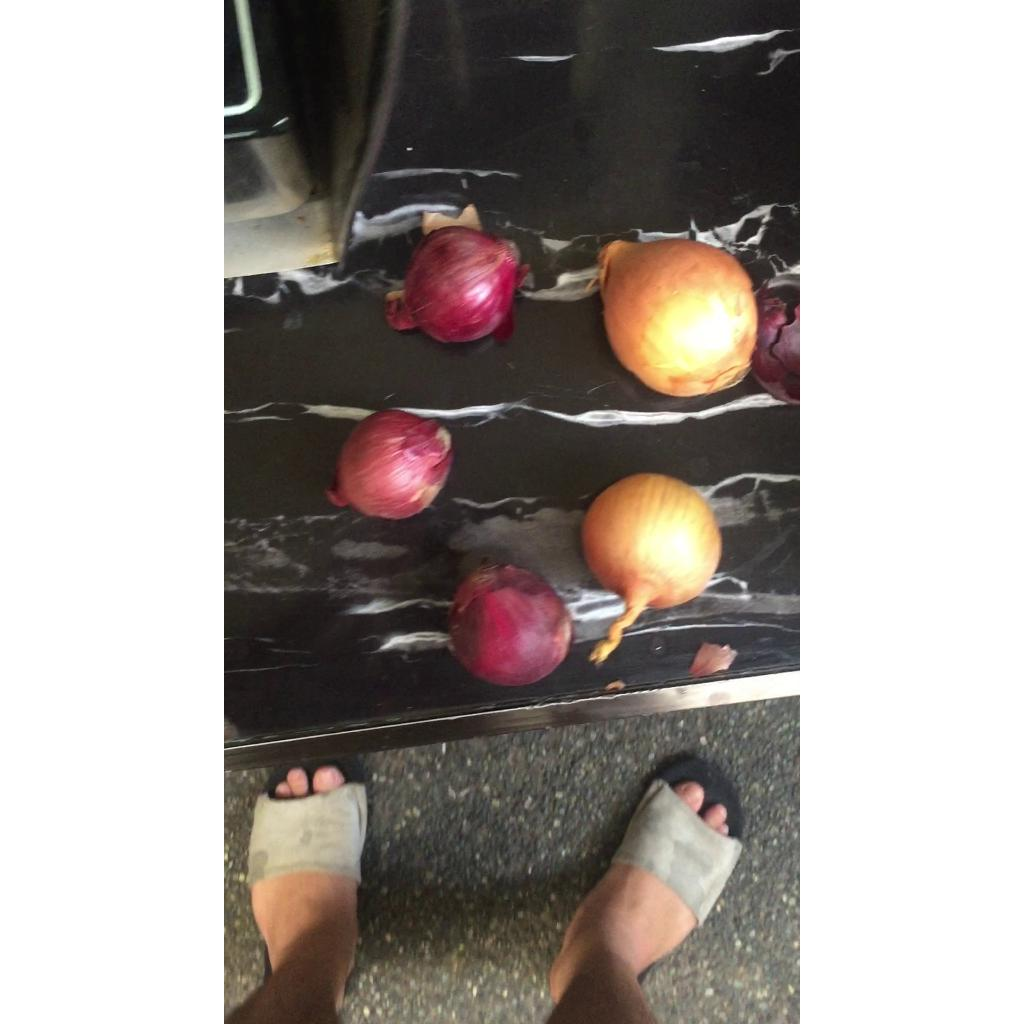Onion: (582, 474, 722, 665), (598, 238, 758, 396), (385, 226, 528, 342), (449, 565, 572, 687), (325, 410, 452, 519)
